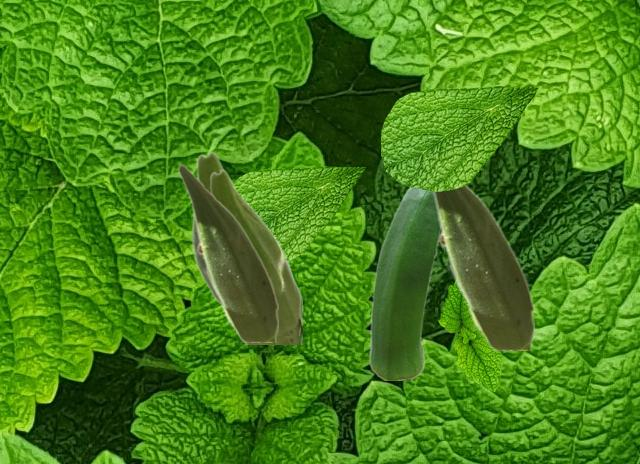okra: (191, 151, 301, 343), (177, 163, 277, 341), (431, 184, 533, 349), (209, 169, 299, 334), (368, 188, 439, 379)
